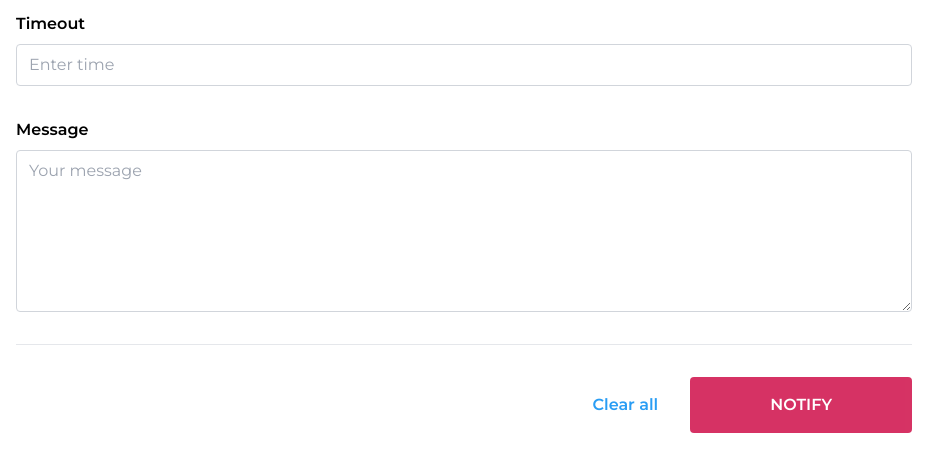
it: when <NotificationForm /> renders › and a message is entered › should enable the notify button
The width and height of the screenshot is (929, 450).
In the text box with placeholder "Your message": (464, 231) [16,150,912,312], type "message content"
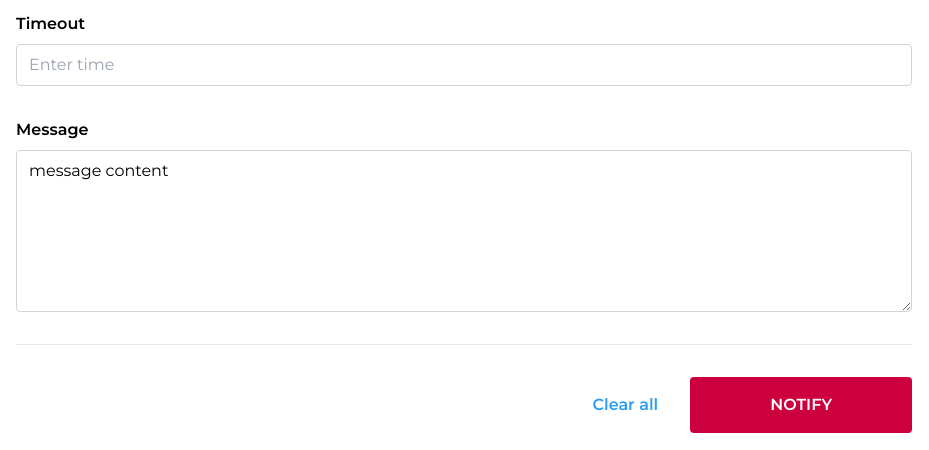
Now the button "Notify" is enabled, box [690,377,912,433]
